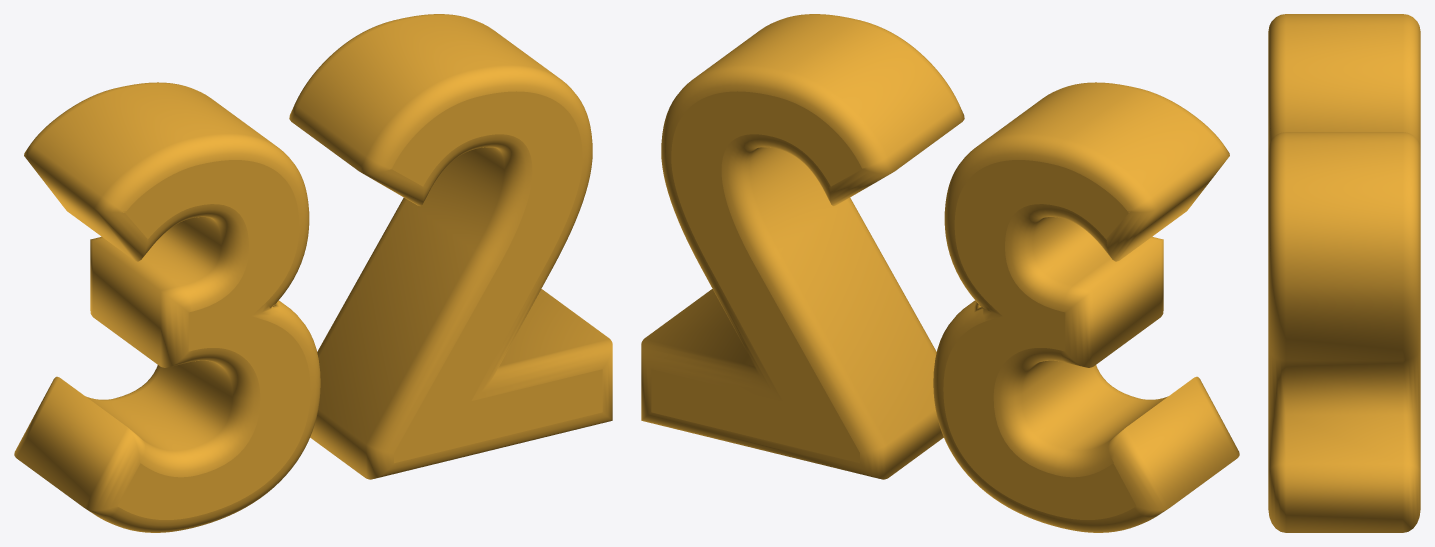
3 renders of one model, left to right at view 1: azimuth 30°, elevation 25°; view 2: azimuth 150°, elevation 25°; view 3: azimuth 270°, elevation 25°, orthographic. The views are drawn at different scales.
Visible parts, largest first — view 1: Text; view 2: Text; view 3: Text.
Boxes of the visible parts, <box> form: Text: <box>14,14,612,532</box>; Text: <box>641,14,1239,532</box>; Text: <box>1268,14,1420,532</box>.
Size of the model in its own units: 89.47 by 63.02 by 26.
